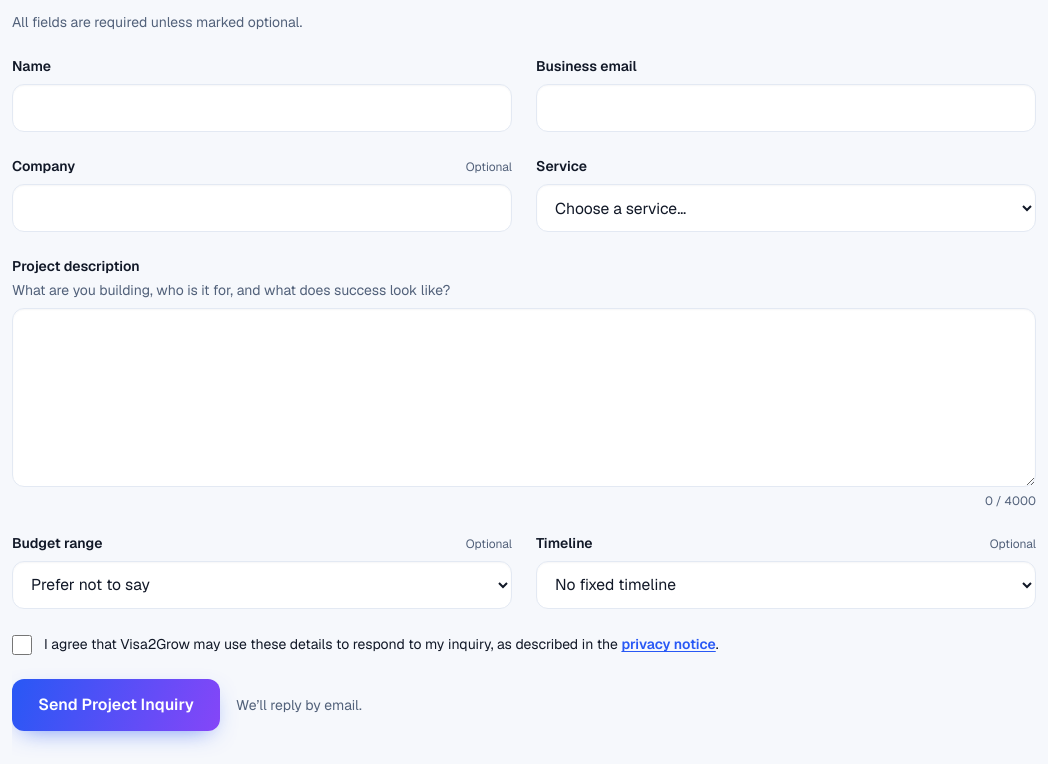
Test: ContactForm › shows accessible errors for every required field and focuses the first one
This screenshot has width=1048, height=764.
Step 1. Click the button "Send Project Inquiry" → (116, 706), box [12, 680, 220, 732]
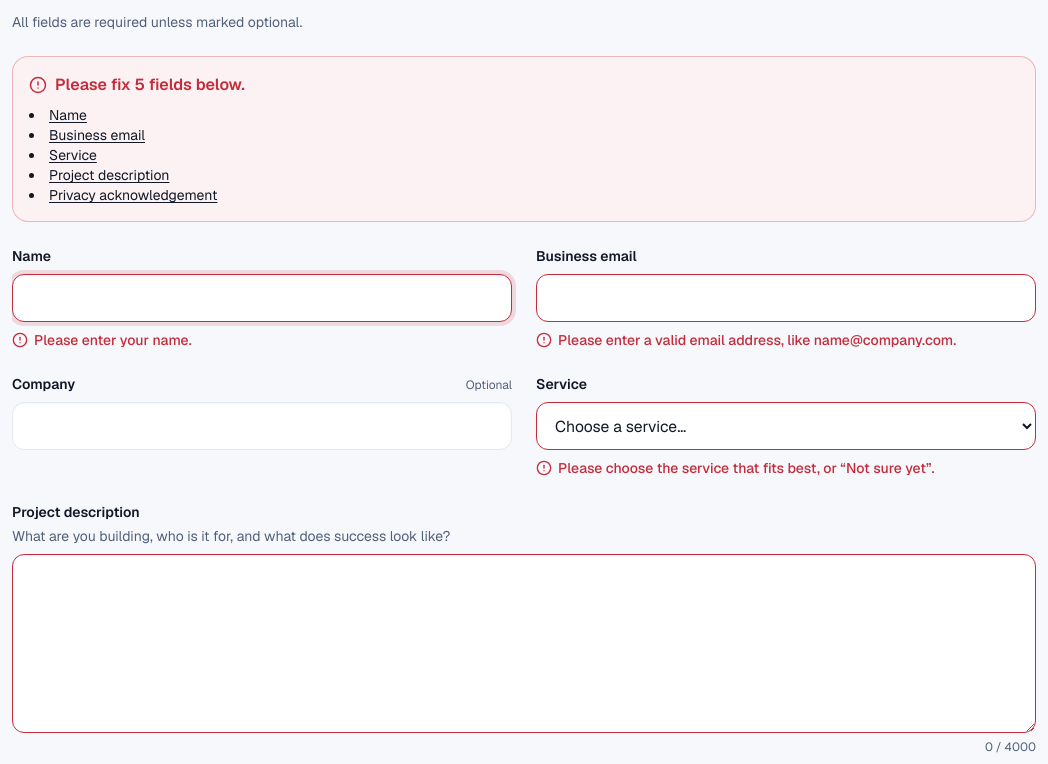
Check: the message shows "Please fix 5 fields below.", box [12, 56, 1036, 222]
